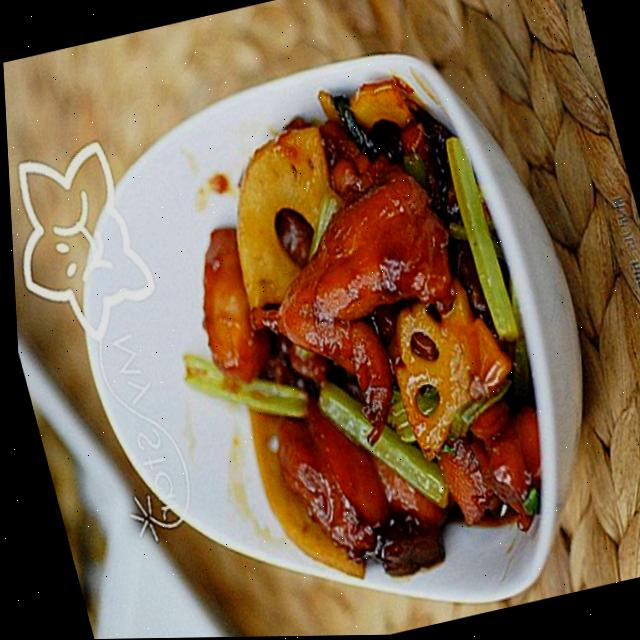鸡肉料理 含炸鸡: (23, 27, 620, 640)
